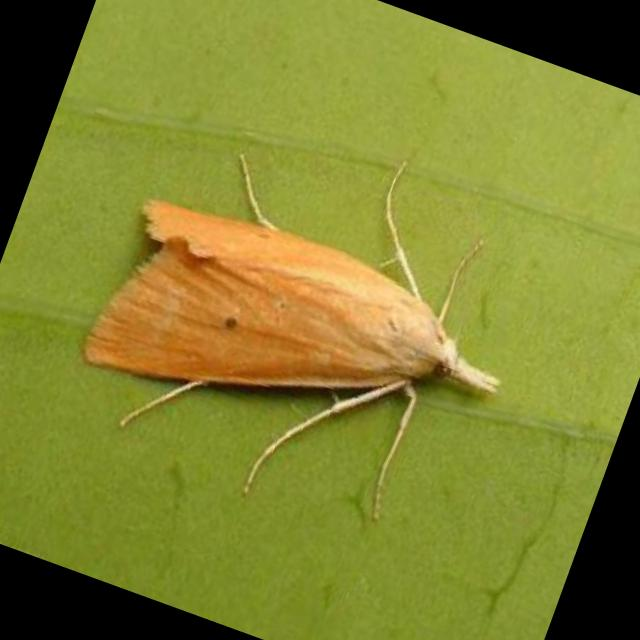stem-borer: (61, 114, 550, 538)
